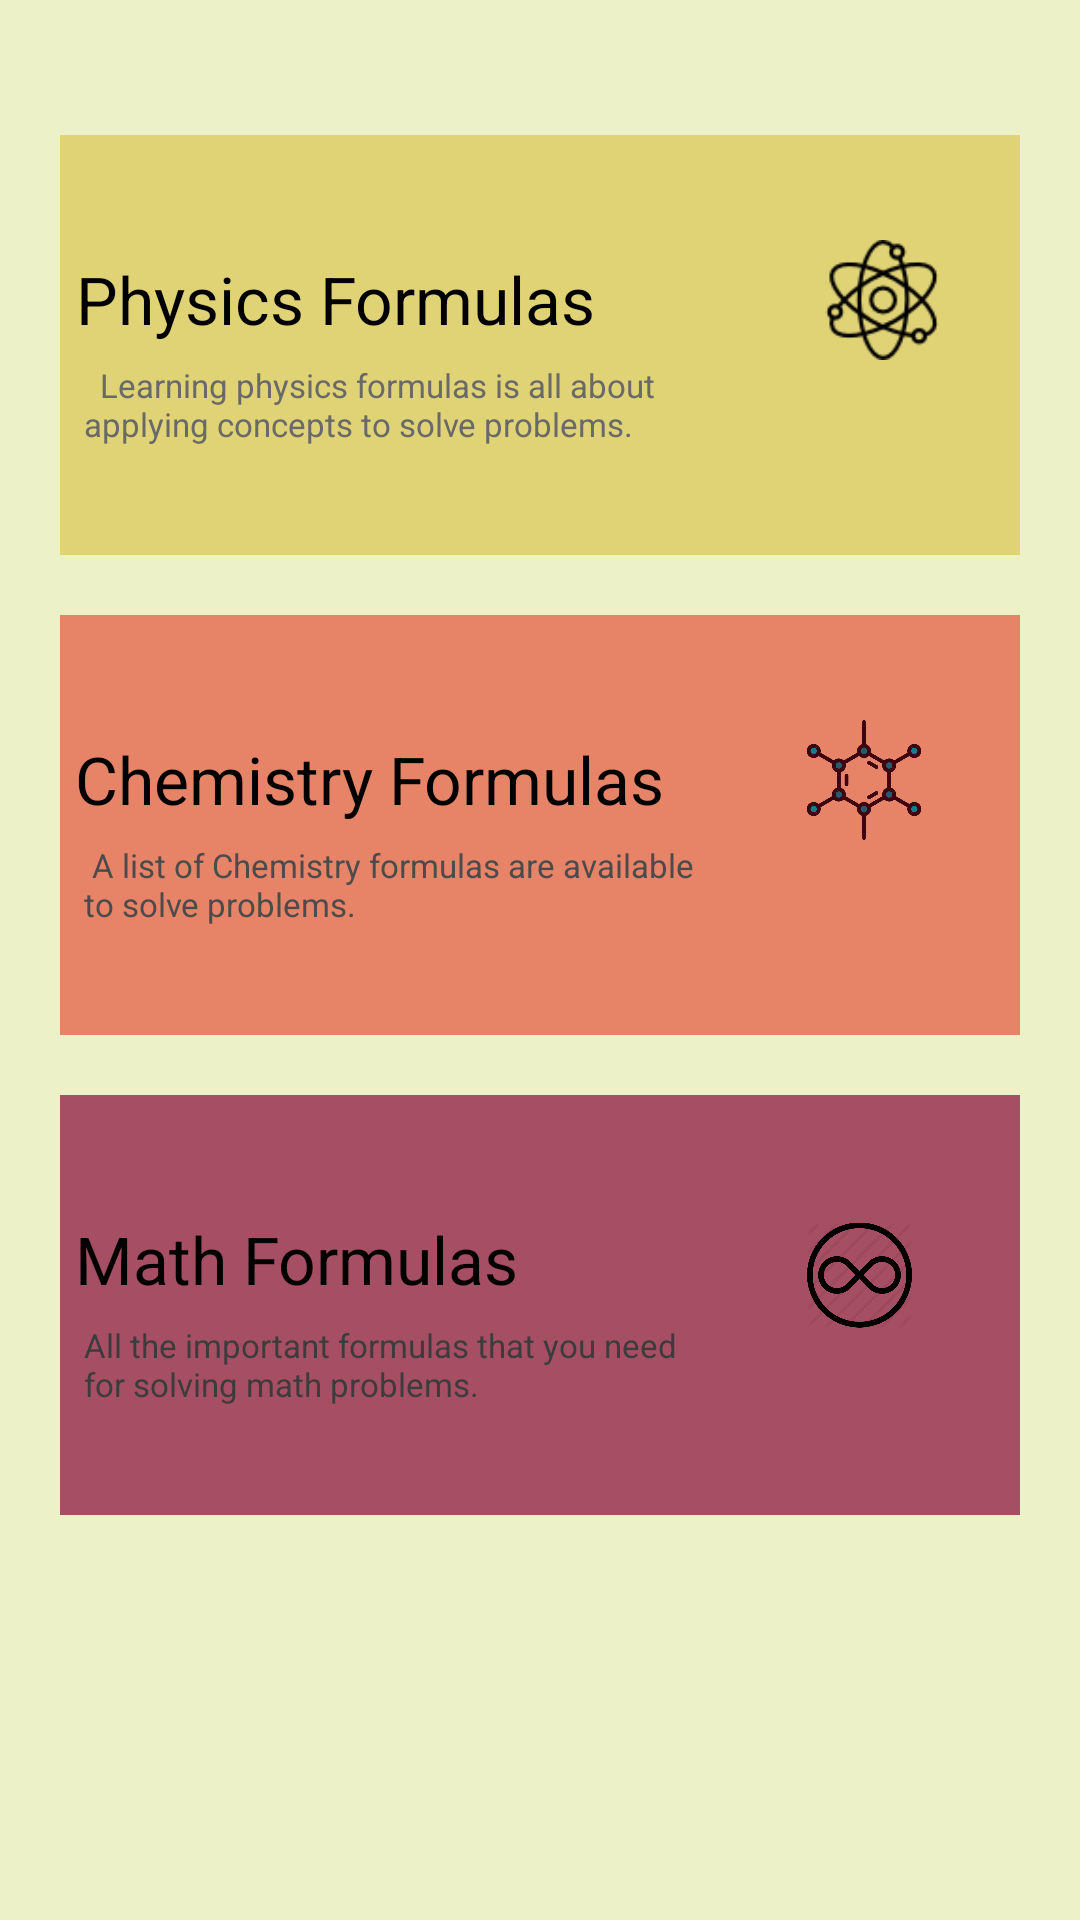

Named icons in this screenshot (1080px×1920px) and their bounding boxes, (x1, y1, x2, y2):
phy: (826, 240, 938, 360)
